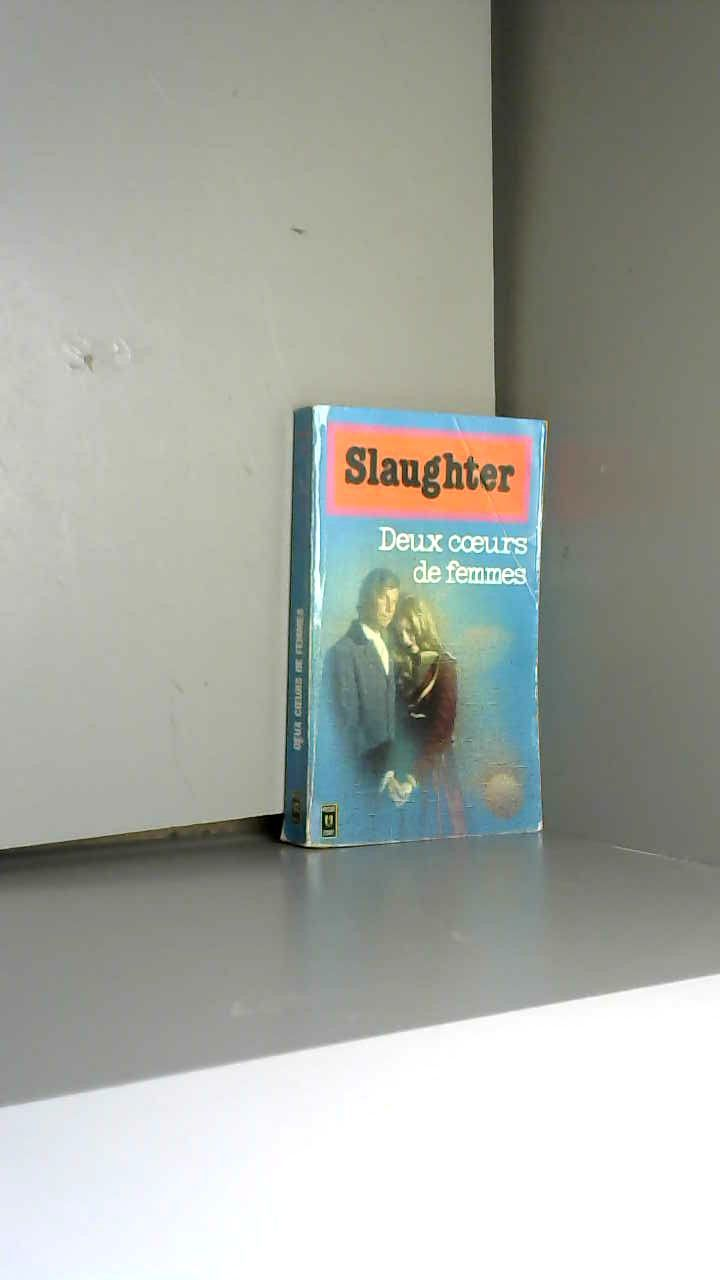book: (247, 359, 581, 895)
